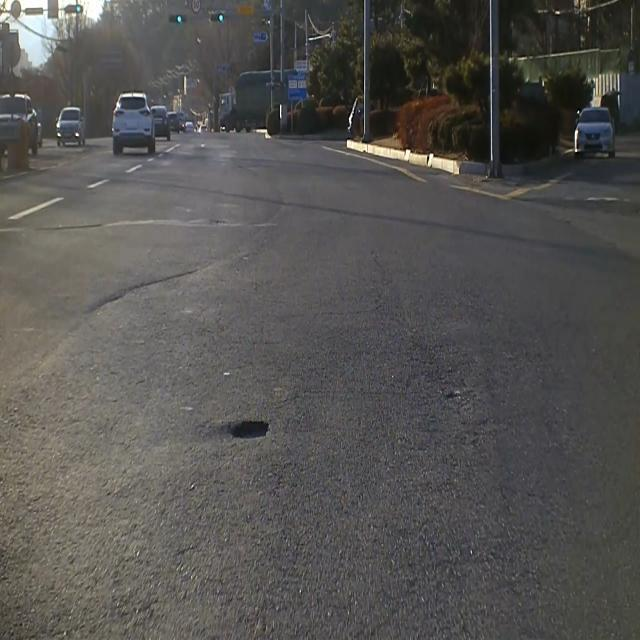Buraco: (223, 417, 274, 441)
